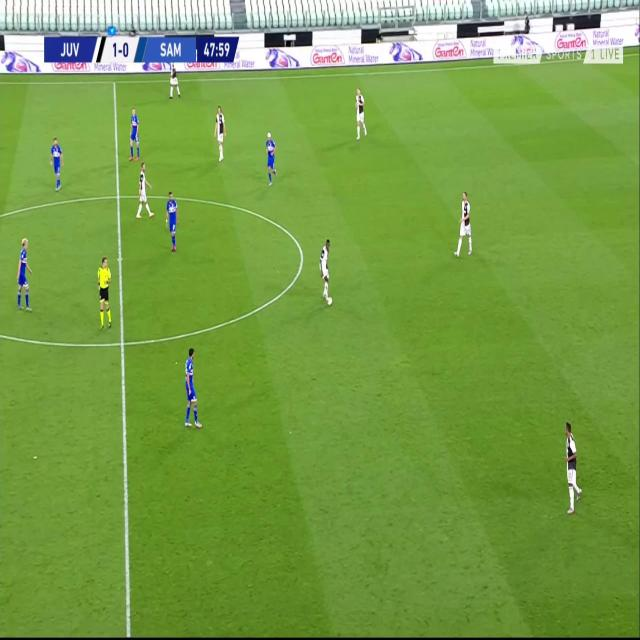ball: (326, 296, 333, 306)
player: (562, 415, 584, 512), (183, 344, 202, 430), (15, 235, 34, 312), (95, 253, 114, 329), (454, 188, 474, 258), (316, 236, 334, 304), (135, 161, 154, 221), (166, 190, 180, 252), (49, 136, 64, 190), (264, 130, 278, 187), (128, 105, 141, 162), (214, 105, 226, 163), (354, 86, 367, 139), (168, 60, 180, 100)
